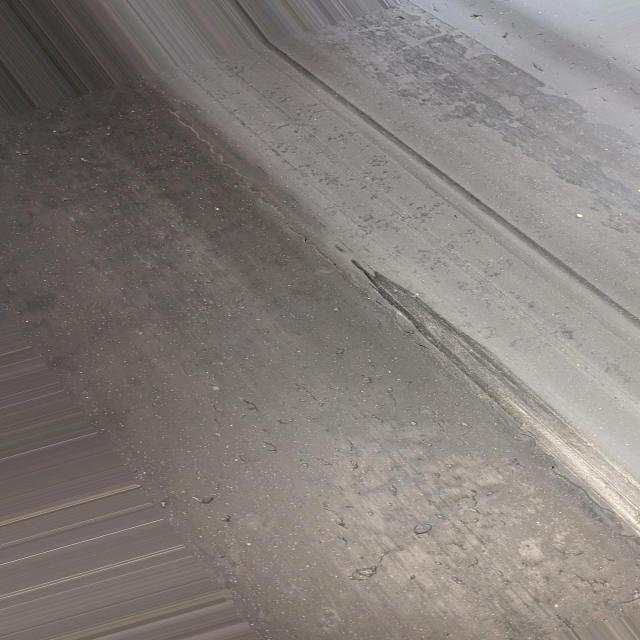Wear: (332, 240, 640, 535)
